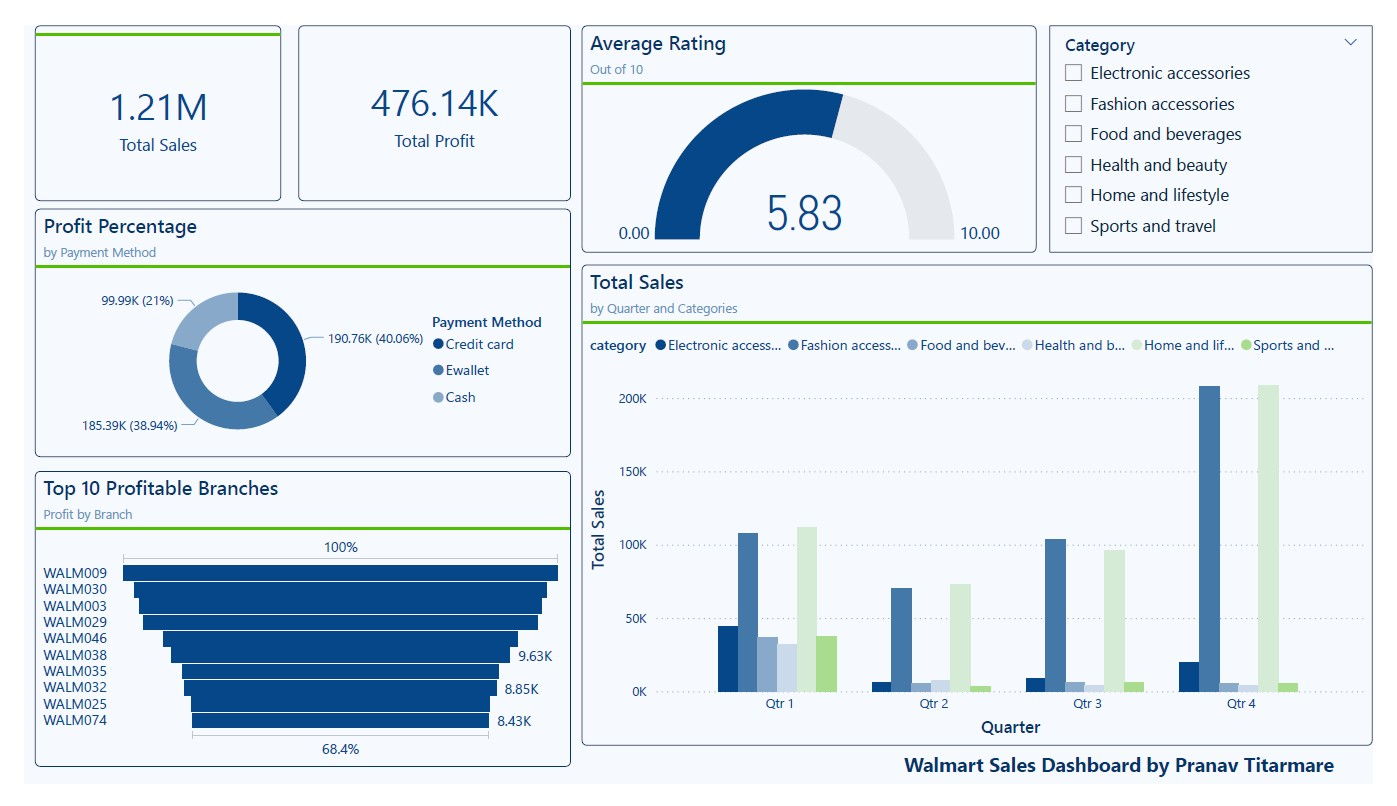

The page's visual inventory and layout, read from the dashboard file:
{"tool":"powerbi","page":{"name":"Page 1","canvas":[1280,720],"ordinal":0},"visuals":[{"type":"card","fields":{"Values":["Sum(walmart_clean_data.total Sales)"]},"box":[9.6,0,234.6,167.4],"z":0},{"type":"donutChart","title":"Profit Percentage","fields":{"Y":["Sum(walmart_clean_data.profit)"],"Category":["walmart_clean_data.payment_method"]},"box":[10,174.3,508.6,235.7],"z":1000},{"type":"clusteredColumnChart","title":"Total Sales","fields":{"Category":["walmart_clean_data.date.Variation.Date Hierarchy.Quarter"],"Series":["walmart_clean_data.category"],"Y":["Sum(walmart_clean_data.total Sales)"]},"box":[528.6,227.1,751.4,457.1],"z":2000},{"type":"funnel","title":"Top 10 Profitable Branches","fields":{"Category":["walmart_clean_data.Branch"],"Y":["Sum(walmart_clean_data.profit)"]},"box":[10,422.9,508.6,281.4],"z":3000},{"type":"gauge","title":"Average Rating","fields":{"Y":["Avg(walmart_clean_data.rating)"]},"box":[528.6,0,432.9,215.7],"z":4000},{"type":"slicer","fields":{"Values":["walmart_clean_data.category"]},"box":[972.9,0,307.1,215.7],"z":5000},{"type":"card","fields":{"Values":["Sum(walmart_clean_data.profit)"]},"box":[260,0,258.6,167.1],"z":6000},{"type":"textbox","box":[830,684.3,450,35.7],"z":7000}]}

Visuals, with their boxes in screenshot pixels (x1, y1, x2, y2), scaled from the page's 1280x720 canvas onto the 1397x806 screenshot:
card - Sum(walmart_clean_data.total Sales): 10, 0, 267, 187
"Profit Percentage" donutChart: 11, 195, 566, 459
"Total Sales" clusteredColumnChart: 577, 254, 1396, 766
"Top 10 Profitable Branches" funnel: 11, 473, 566, 788
"Average Rating" gauge: 577, 0, 1049, 241
slicer - walmart_clean_data.category: 1062, 0, 1396, 241
card - Sum(walmart_clean_data.profit): 284, 0, 566, 187
textbox: 906, 766, 1396, 805
